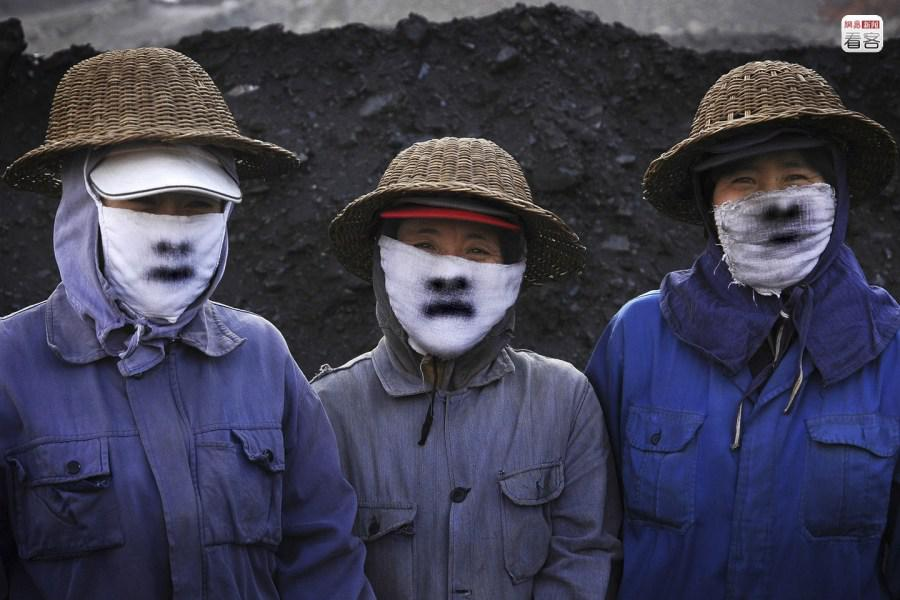OK: (389, 224, 521, 356), (96, 186, 223, 313), (717, 160, 841, 284)
